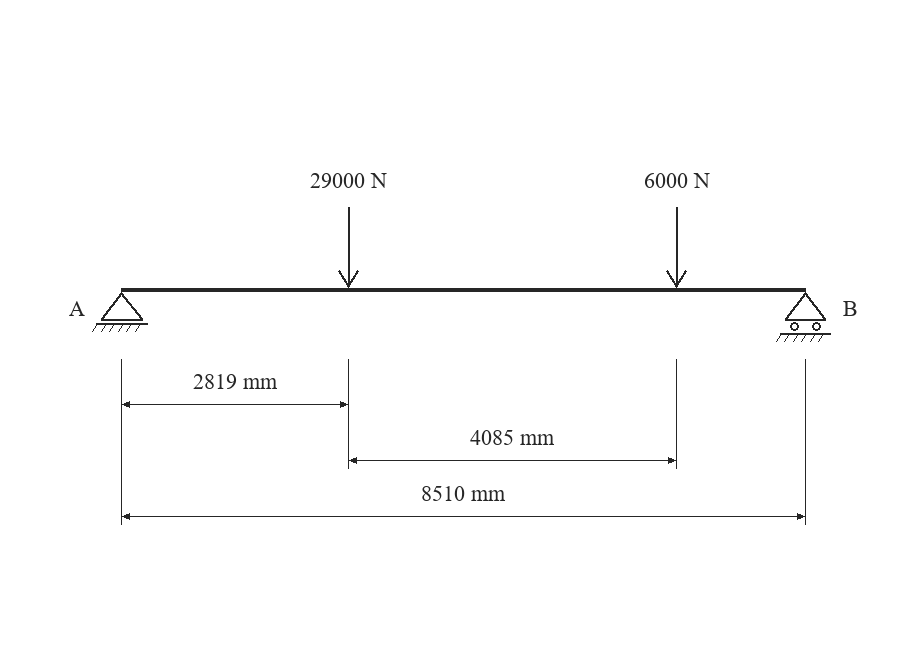pin_support: (92, 292, 148, 332)
point_load: (338, 207, 359, 288), (666, 207, 687, 288)
roller_support: (776, 292, 831, 342)
